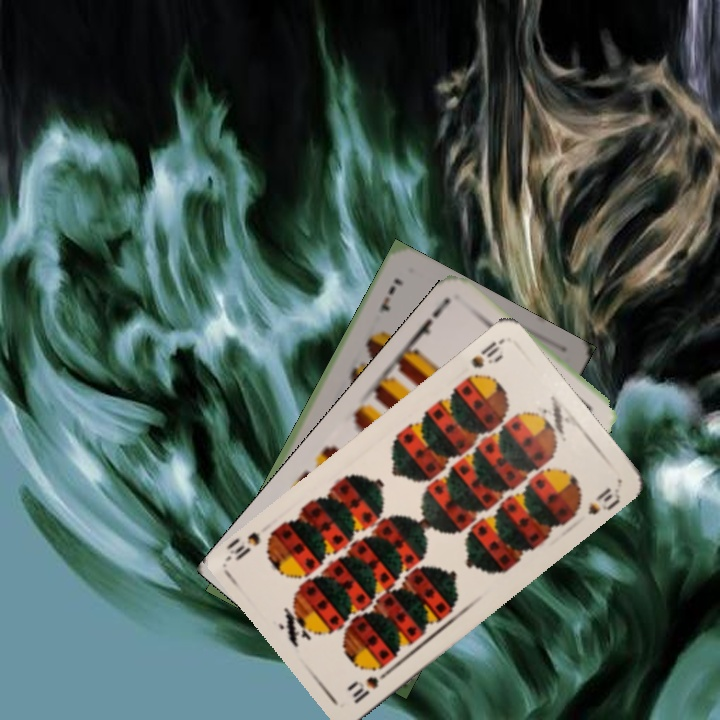E7: (410, 293, 453, 342), (375, 274, 406, 315)
S10: (343, 663, 396, 707), (467, 336, 505, 371)
